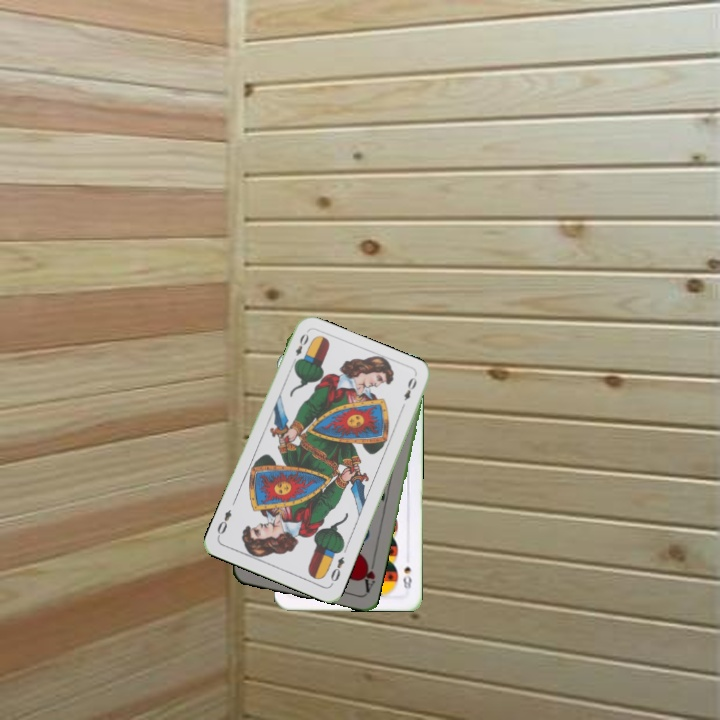EO: (289, 329, 311, 367), (326, 552, 347, 584)
HA: (358, 555, 378, 595)
S8: (399, 562, 414, 595)
